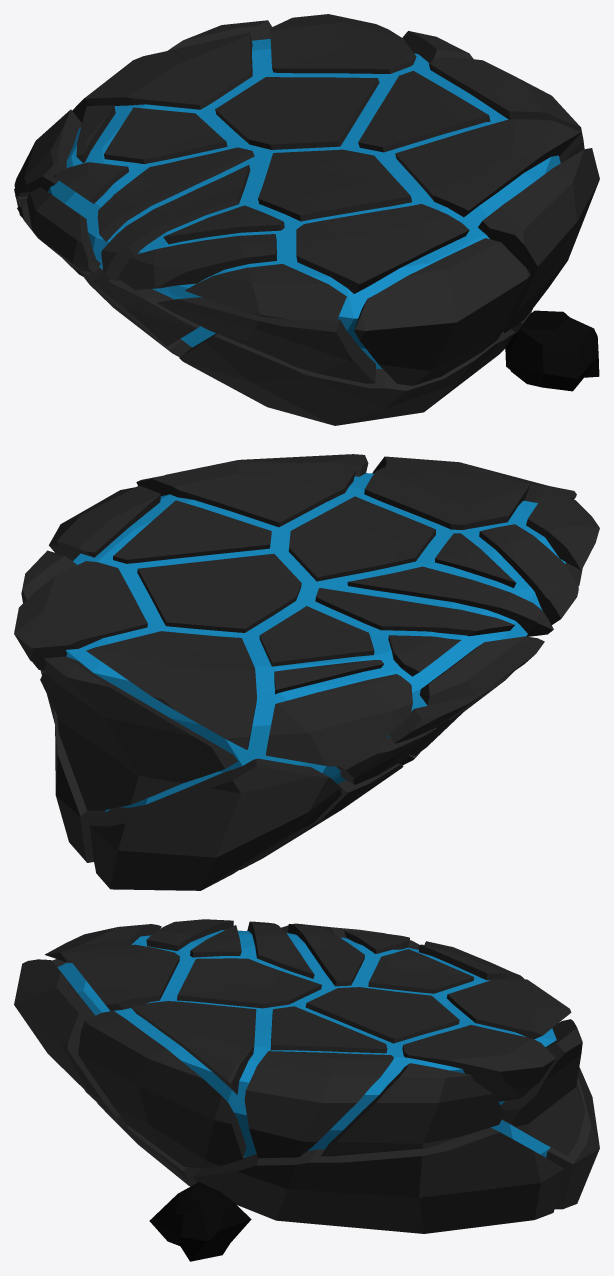
File: SpacePlatform2.fbx
3 views of the same model, one above another, from view 1: azimuth 30°, elevation 25°; view 2: azimuth 150°, elevation 25°; view 3: azimuth 270°, elevation 25° (orthographic). The views are drawn at different scales.
Visible parts, largest first — view 1: Cube.001_cell, Cube.001, Cube; view 2: Cube.001_cell, Cube.001; view 3: Cube.001_cell, Cube.001, Cube.
Boxes of the visible parts, x1,y1,x2,y2 form: Cube.001_cell: (14, 14, 599, 425); Cube.001: (48, 39, 560, 368); Cube: (505, 310, 599, 391); Cube.001_cell: (14, 454, 599, 890); Cube.001: (66, 473, 565, 812); Cube.001_cell: (14, 919, 599, 1233); Cube.001: (57, 930, 556, 1157); Cube: (149, 1182, 251, 1261).
Size of the model in its own units: 187 by 98.23 by 234.
